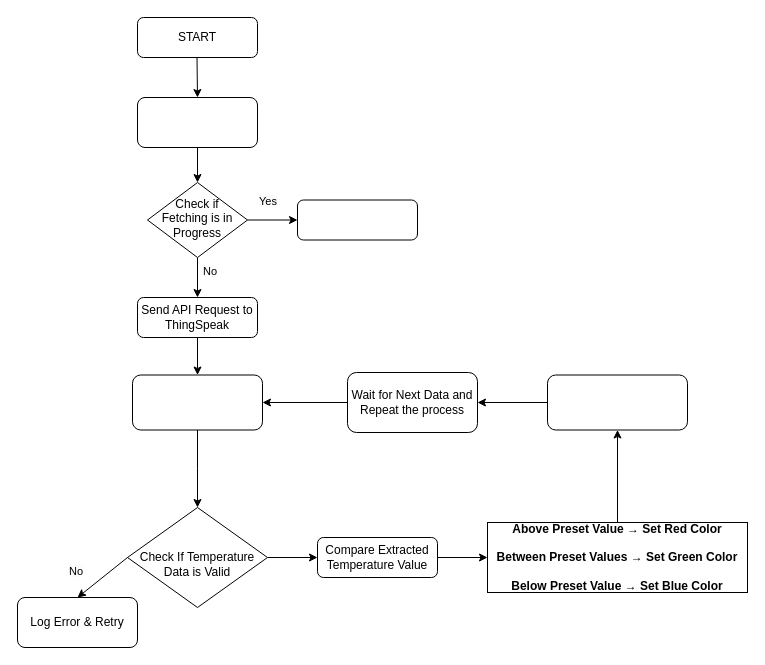
The diagram is 765 pixels wide and 665 high, and some of its shapes have lost their labels. Each missing label, with the box of its shape:
Assign Part Renderers and Start Fetching Data: (136, 96, 258, 148)
Receive API Response and Parse JSON Data: (132, 374, 262, 430)
Update AR Model Color in Unity: (546, 374, 688, 430)
Wait & Retry: (296, 199, 418, 240)
